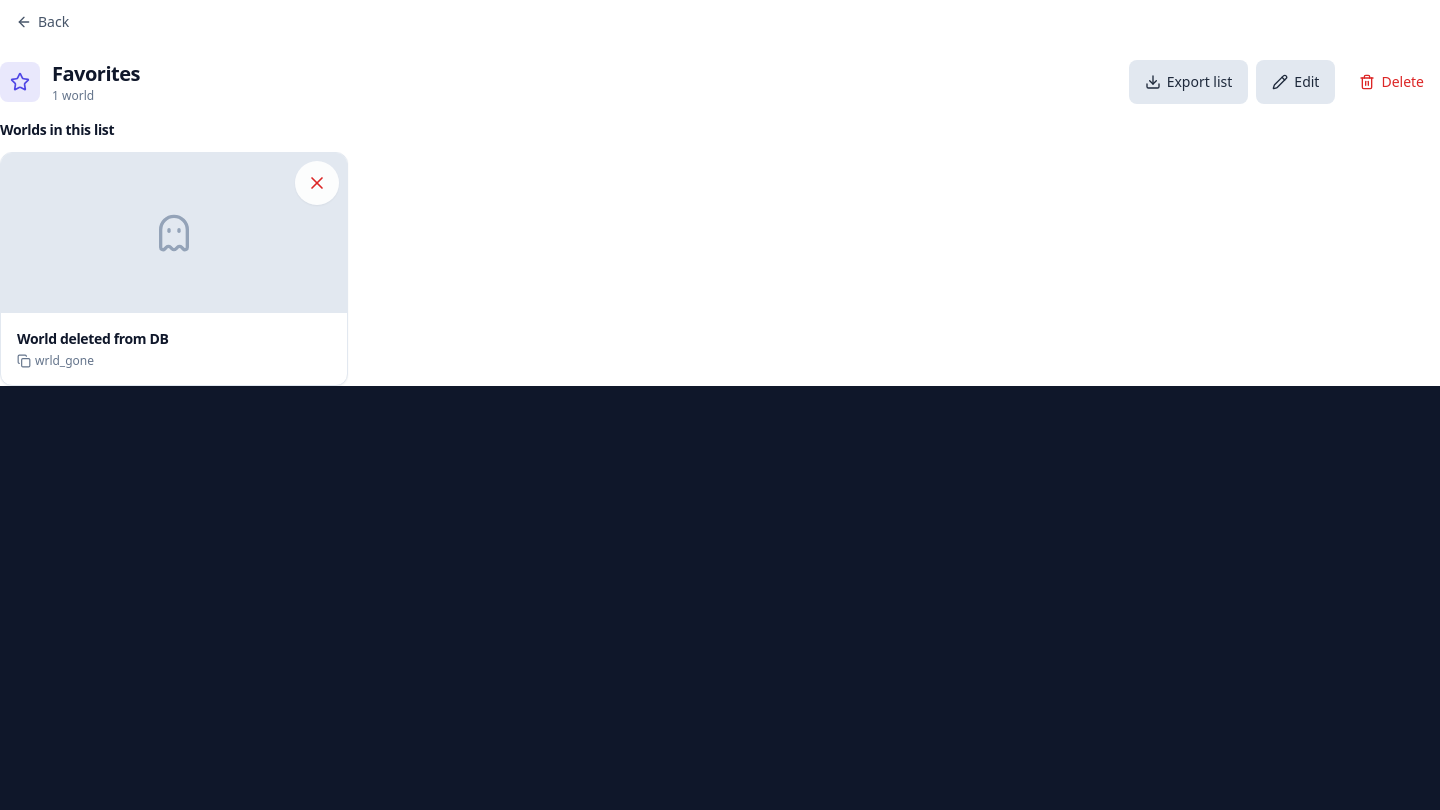
it: ListDetailPage › removes a deleted world via the confirmation dialog
Expected: the heading "World deleted from DB" is shown, x1=17 y1=329 x2=169 y2=348
Click the button named "remove world from list": x=317, y=183 x1=295 y1=161 x2=339 y2=205
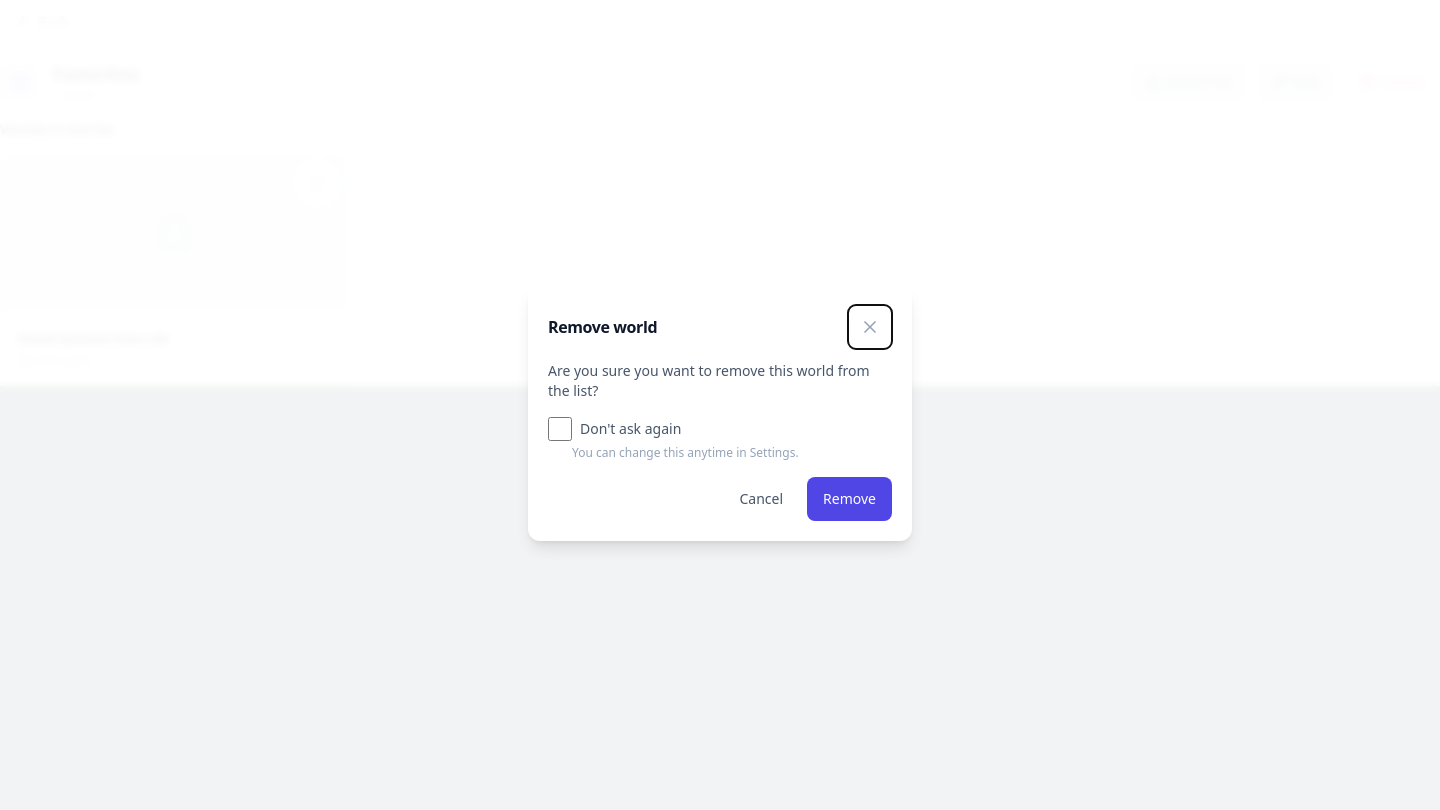
Expected: the heading "Remove world" is shown, x1=548 y1=315 x2=657 y2=339
Click the button "Remove": x=850, y=499 x1=807 y1=477 x2=892 y2=521
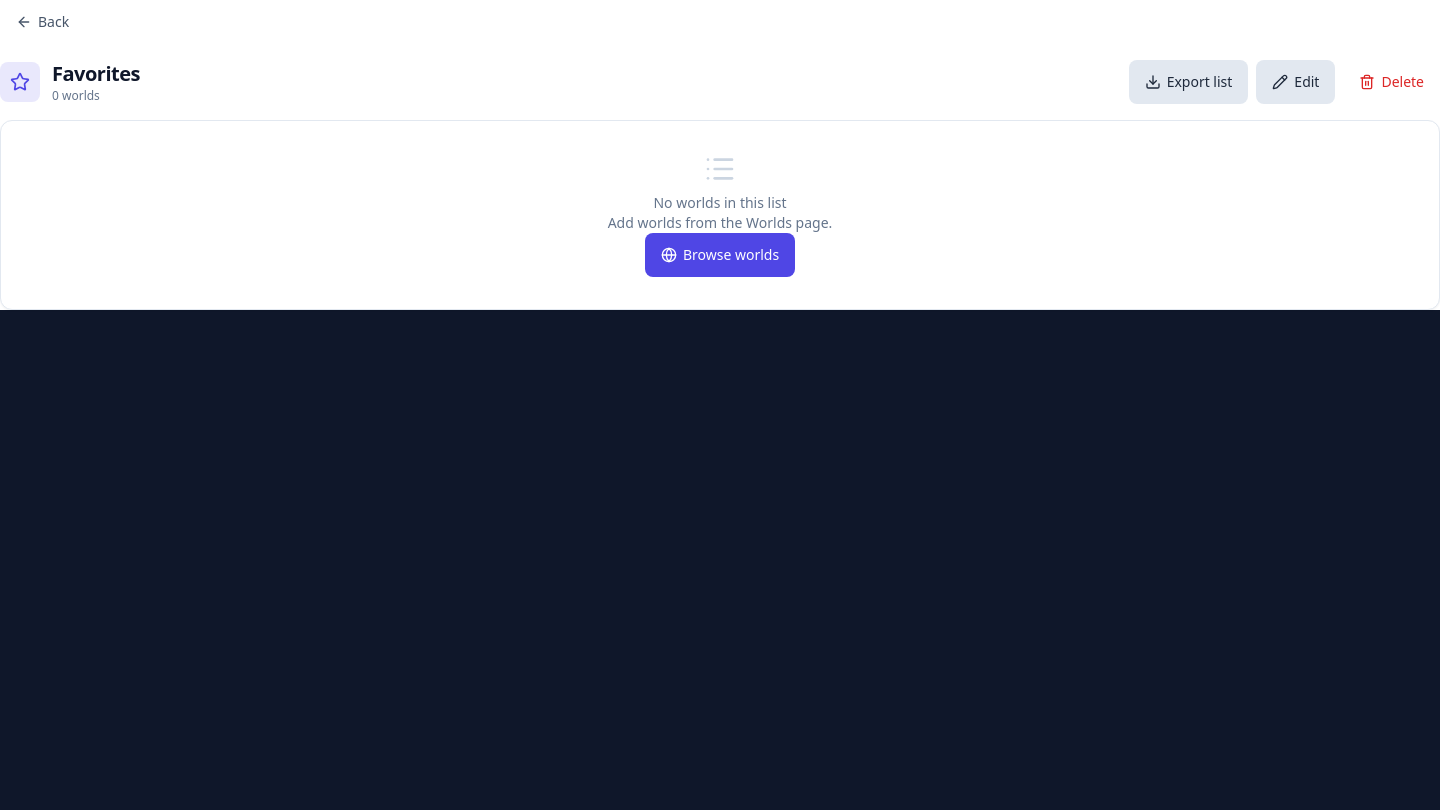
Expected: the heading "World deleted from DB" is gone
